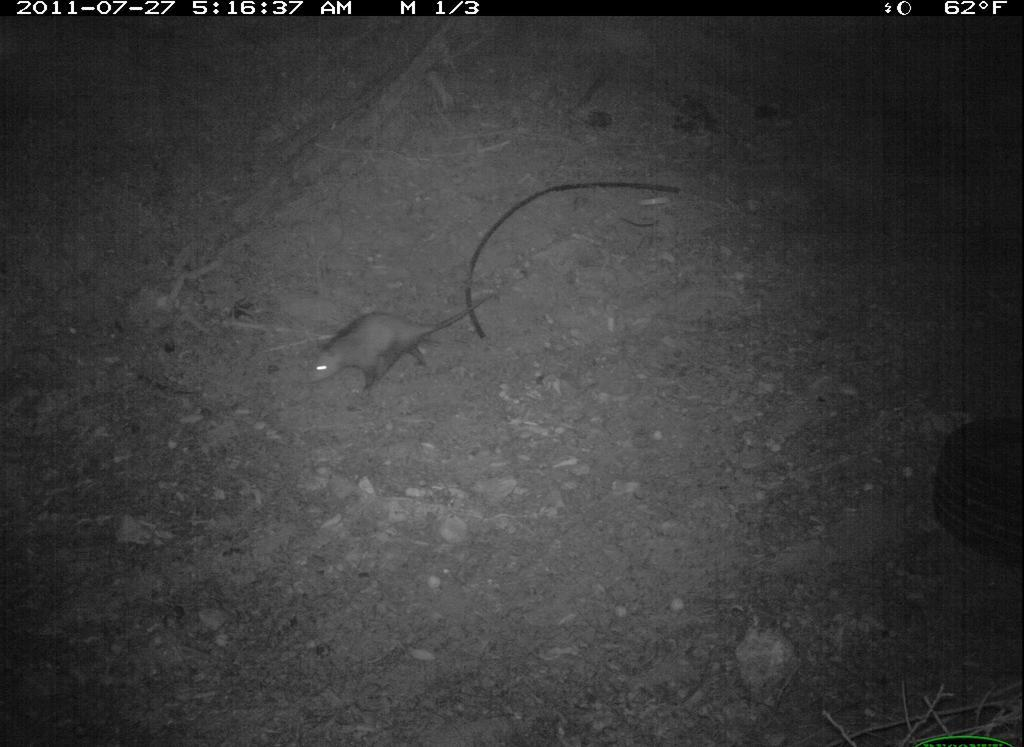opossum: (272, 243, 481, 406)
